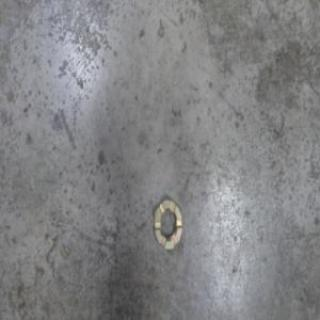Nuttrack_idkeyframe: (153, 192, 183, 250)
